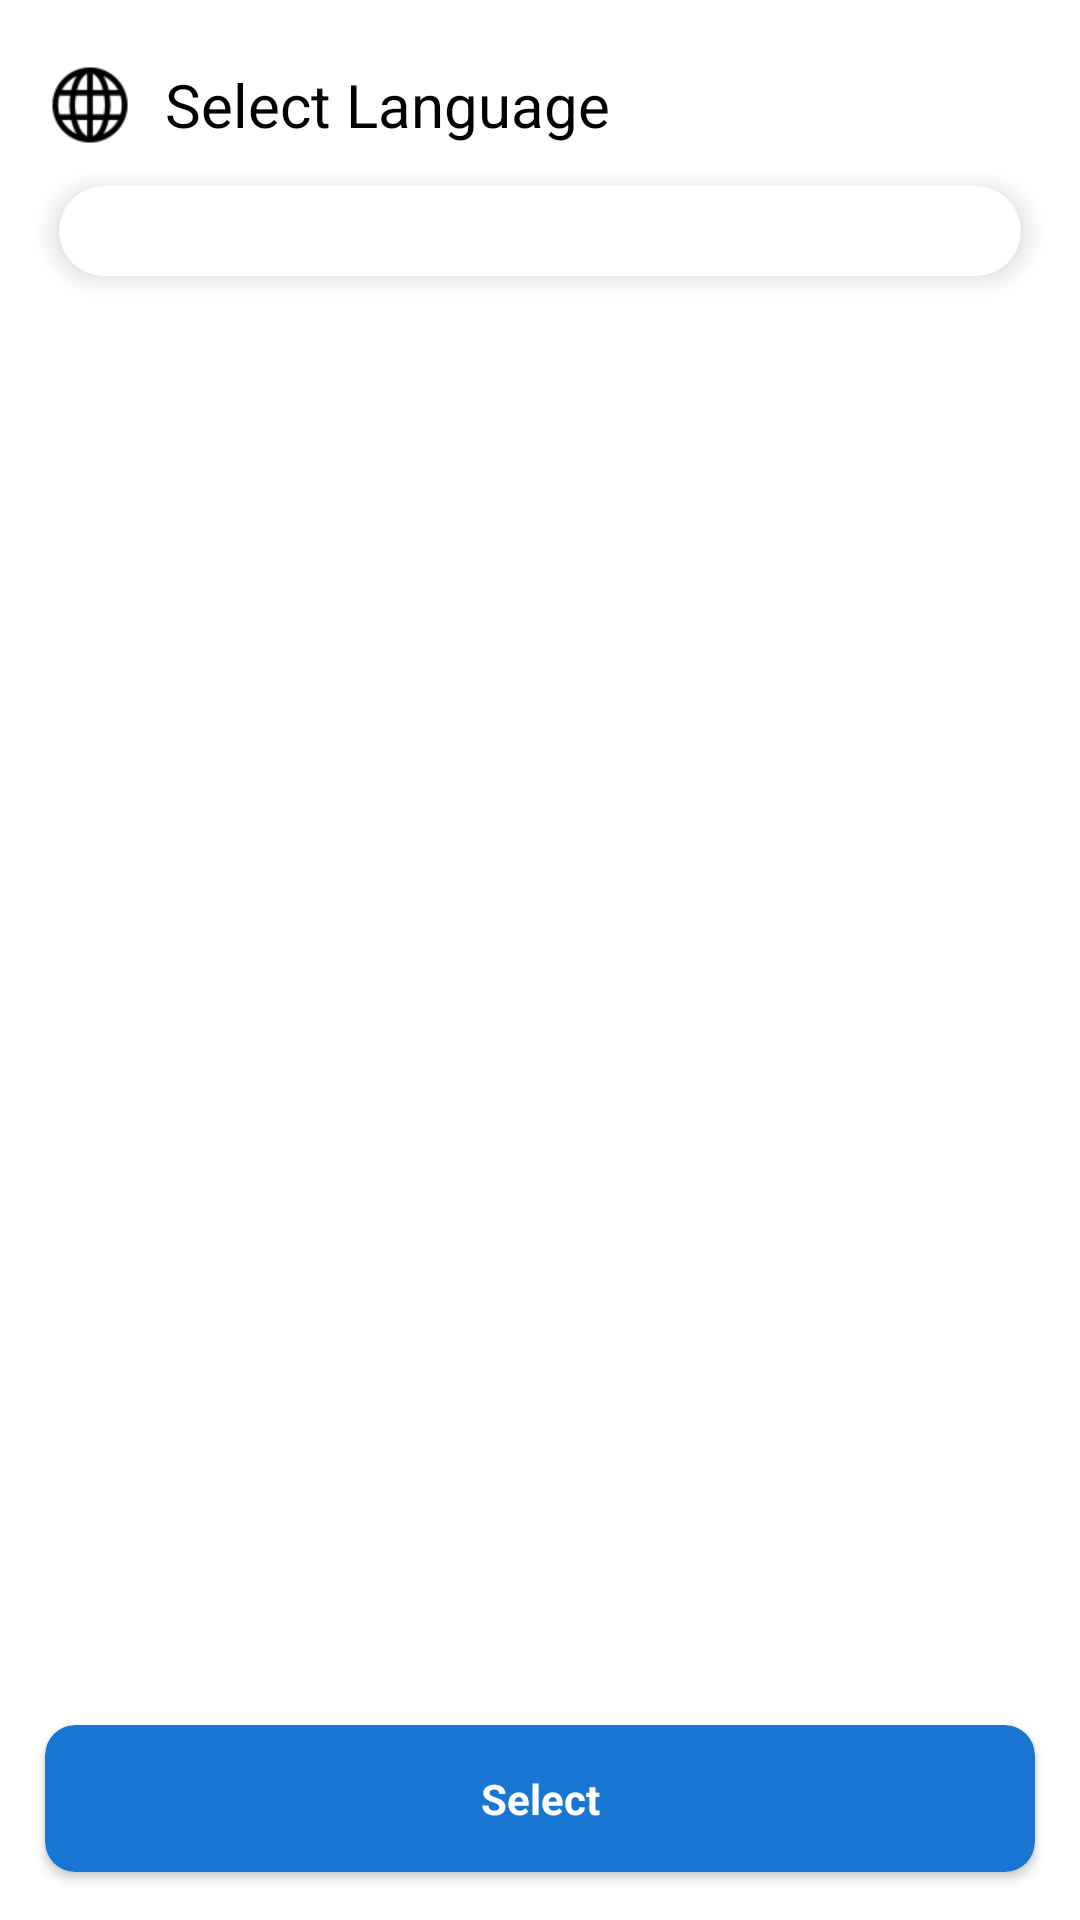

Icons on this 1080 × 1920 Android screen, each with the point to tap as [x,y]:
geography: [90,105]
